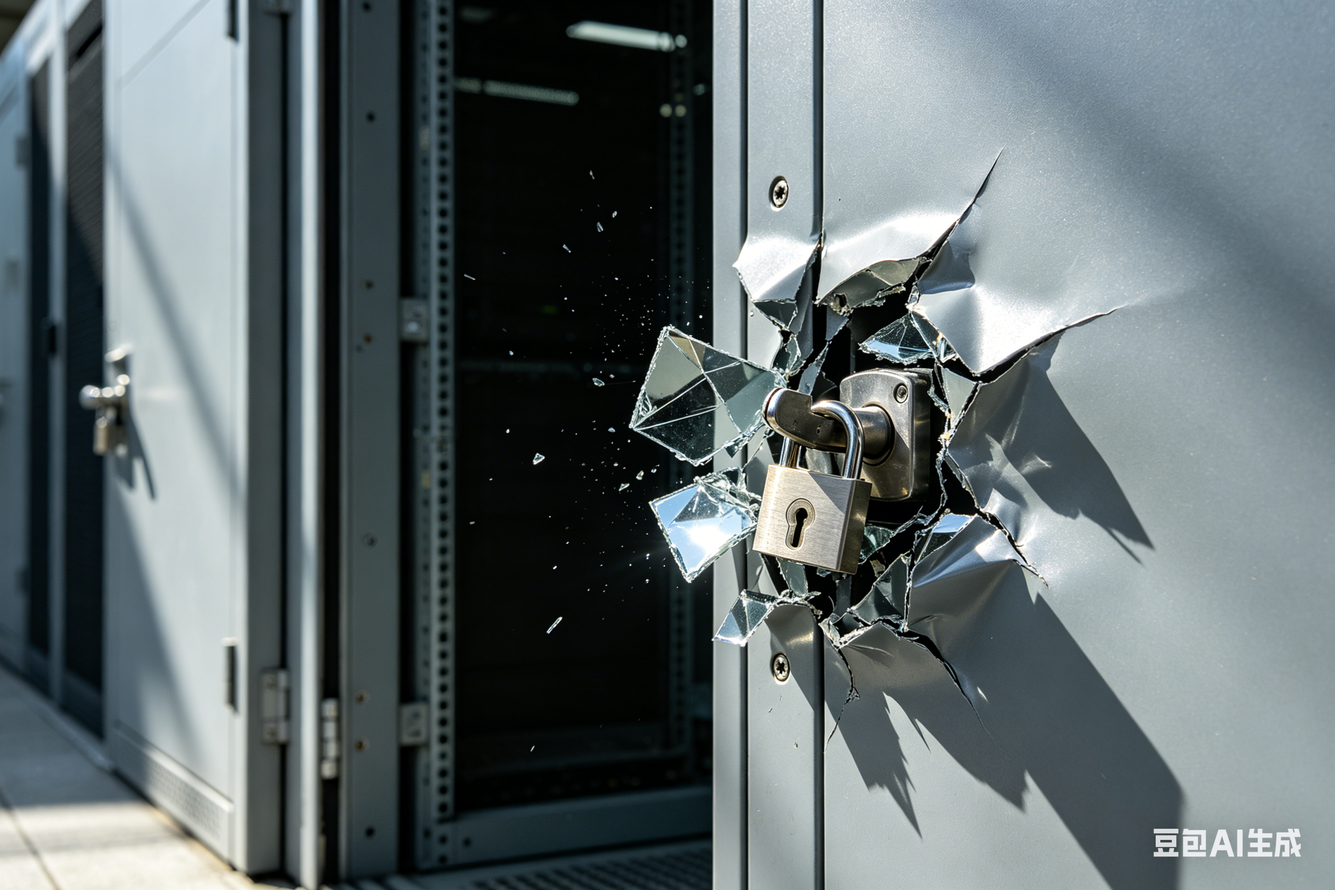BadLock: (709, 260, 1032, 656)
